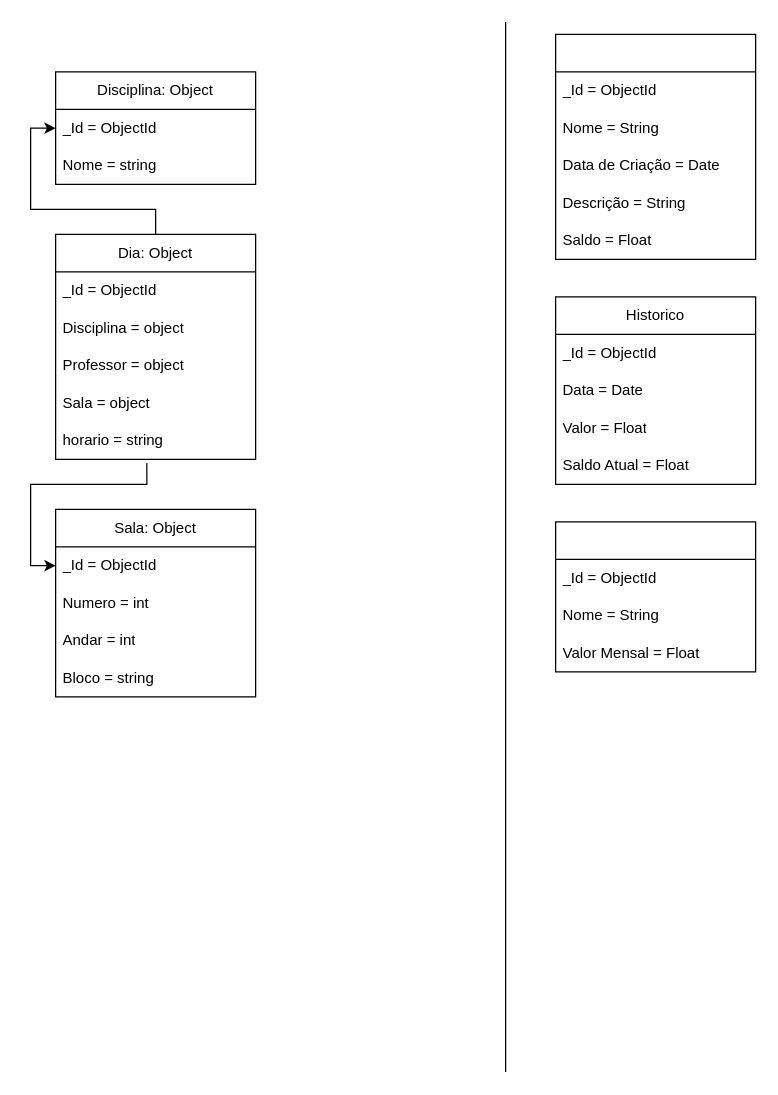
This 778x1095 diagram has some shape labels left out. Each missing label, with the box of its shape:
Carteira: (554, 33, 756, 259)
Meses: (554, 521, 756, 672)
